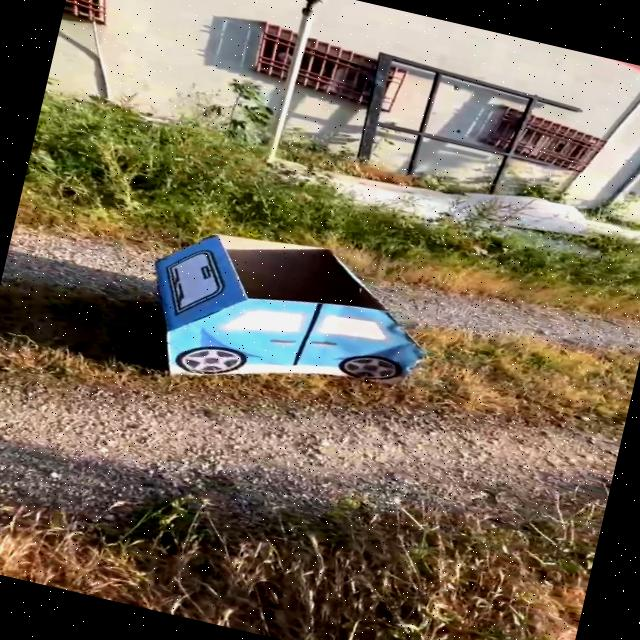blue_car: (70, 176, 499, 458)
